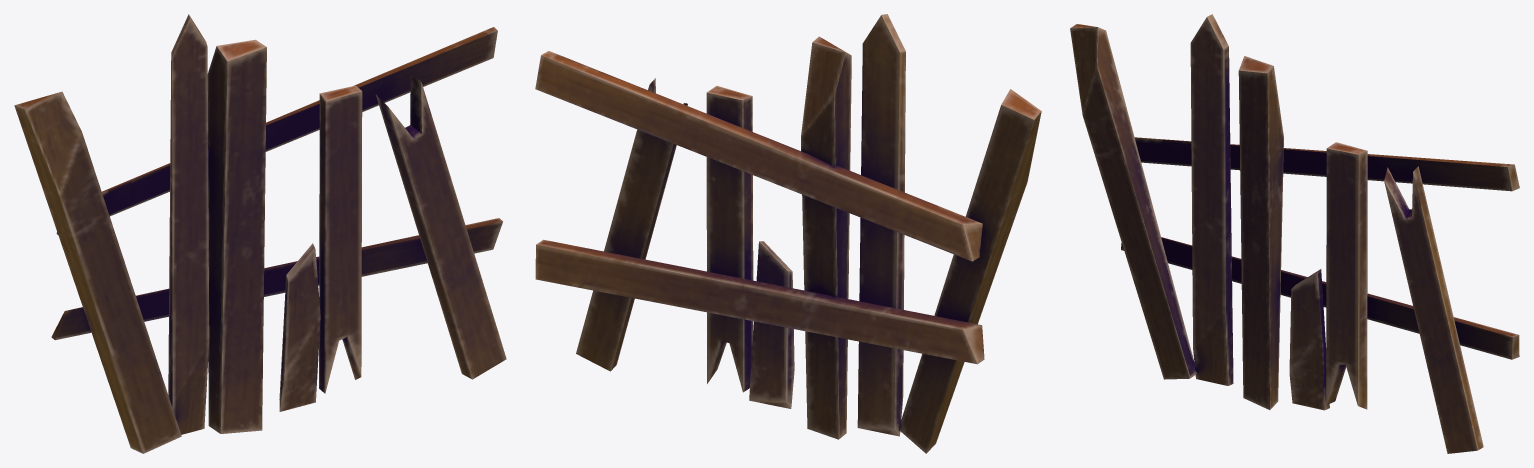
File: Fence_Plank4.fbx
The picture shows the model from 3 angles, left to right: view 1: azimuth 30°, elevation 25°; view 2: azimuth 150°, elevation 25°; view 3: azimuth 330°, elevation 25°; orthographic projection. The views are drawn at different scales.
Visible parts, largest first — view 1: EA03_Fence_Plank_01e_LOD0; view 2: EA03_Fence_Plank_01e_LOD0; view 3: EA03_Fence_Plank_01e_LOD0.
Boxes of the visible parts, box(x1,y1,x2,y2) form: EA03_Fence_Plank_01e_LOD0: box(14, 14, 506, 453); EA03_Fence_Plank_01e_LOD0: box(535, 14, 1041, 453); EA03_Fence_Plank_01e_LOD0: box(1070, 14, 1519, 453).
Size of the model in its own units: 3.3 by 0.4248 by 2.75.
1 material, 1 textured.
